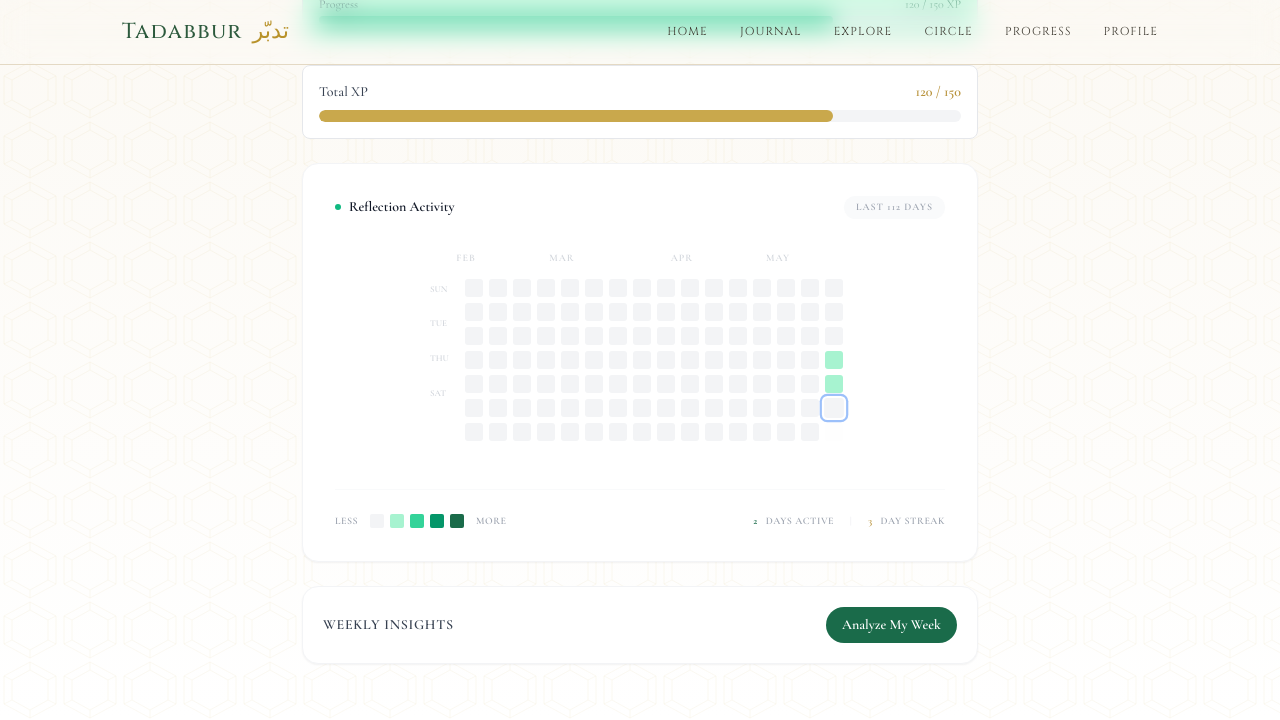
Progress weekly insights › requests weekly insights and renders returned markdown after clicking Analyze My Week
(page scrolled)
Step 1. Click the button "Analyze My Week" → (892, 625), box left=826, top=607, right=957, bottom=643
(page scrolled)
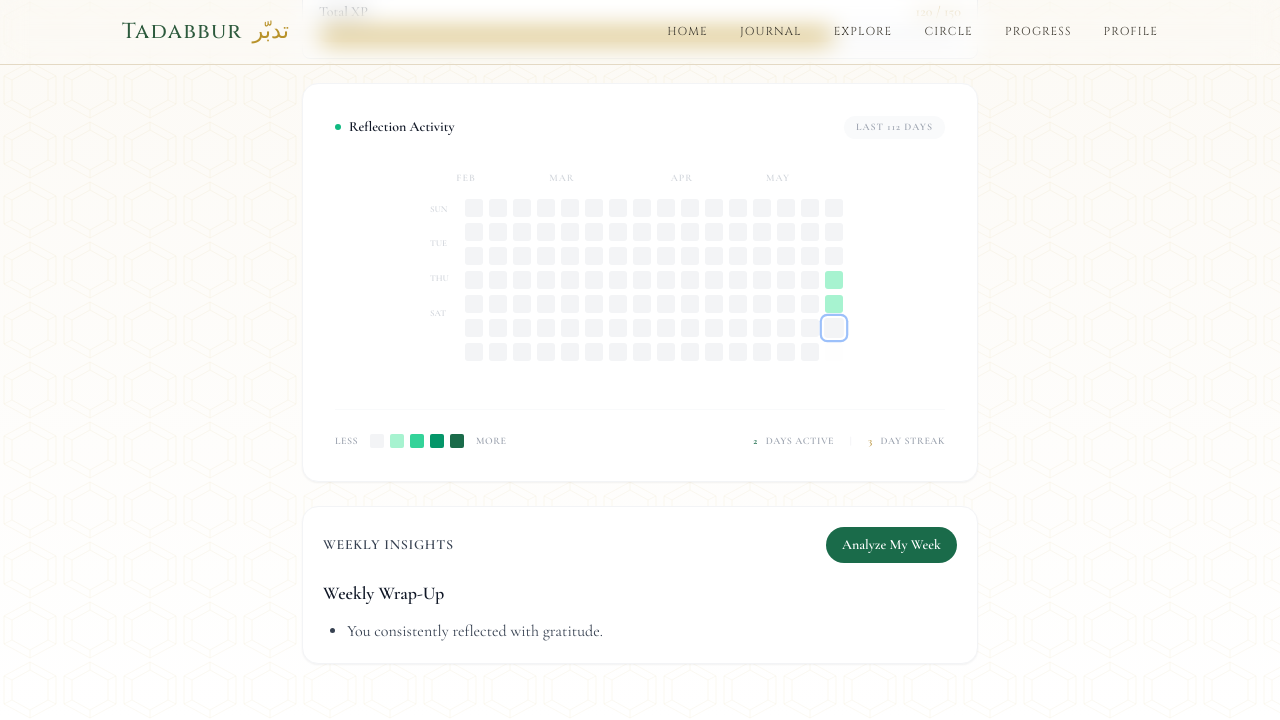
Check: the heading "Weekly Wrap-Up" is shown, box left=323, top=582, right=444, bottom=604
Check: the list item "You consistently reflected with gratitude." is shown, box left=347, top=621, right=603, bottom=641
